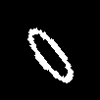chain: (28, 28, 72, 82)
